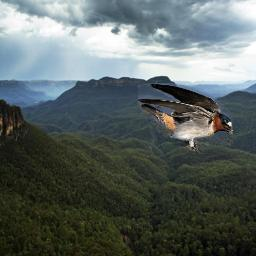Swallow: (138, 83, 233, 154)
